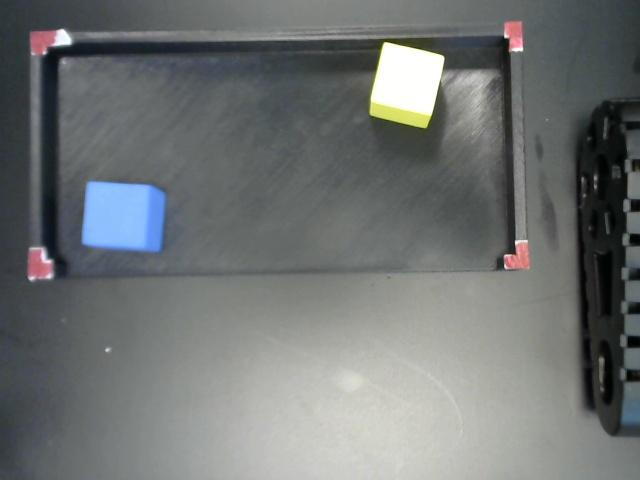cube: (371, 43, 445, 128), (81, 180, 165, 253)
